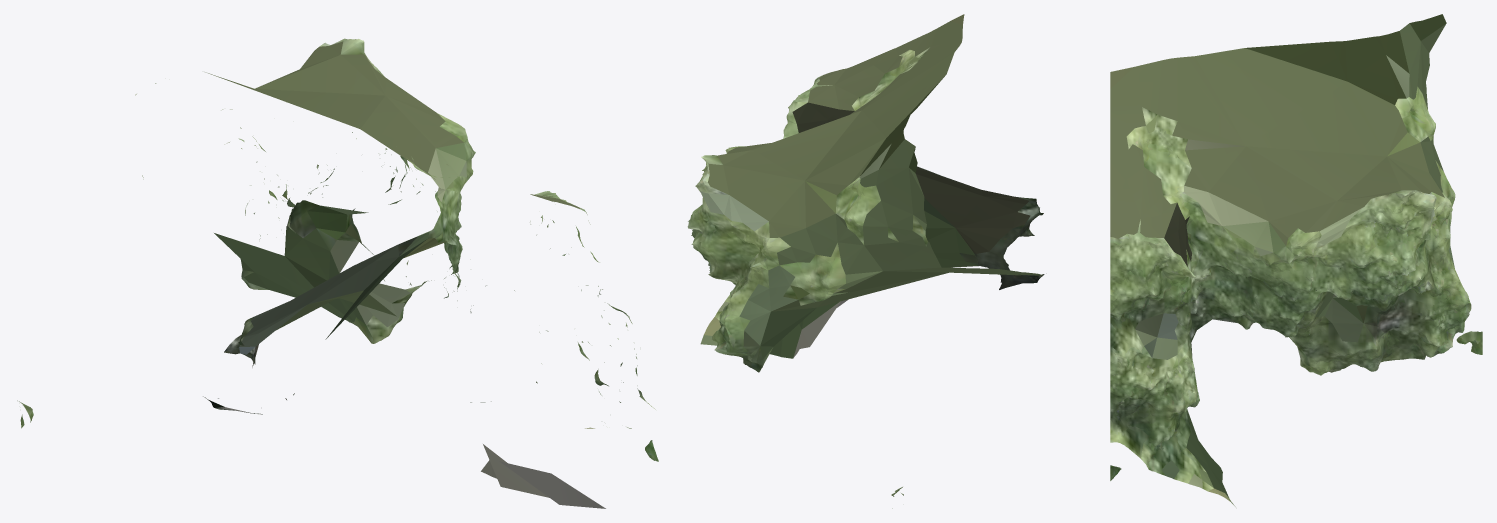
3 renders of one model, left to right at view 1: azimuth 30°, elevation 25°; view 2: azimuth 150°, elevation 25°; view 3: azimuth 270°, elevation 25°, orthographic. The views are drawn at different scales.
Size of the model in its own units: 1.97 by 1.97 by 1.97.
1 material, 1 textured.
